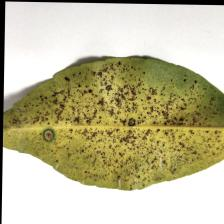canker: (60, 85, 195, 165)
